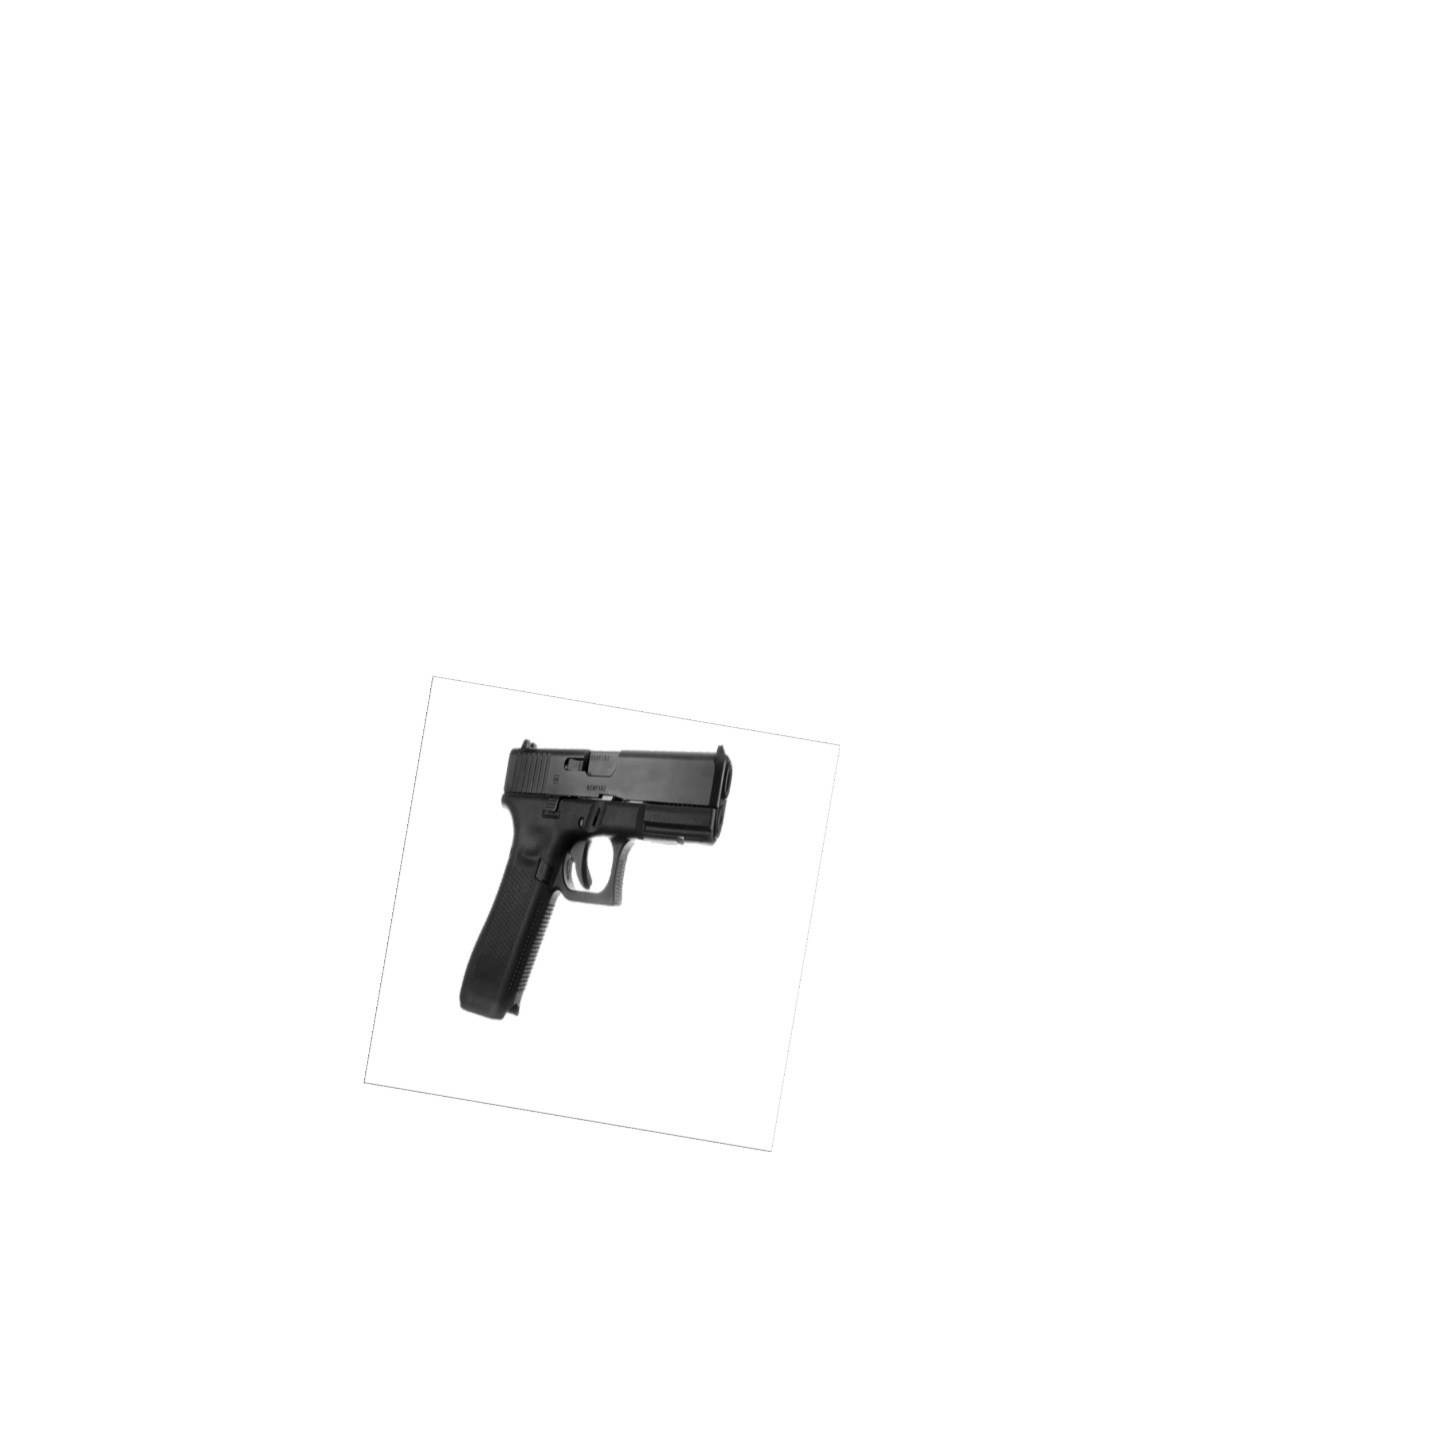gun: (452, 727, 739, 1027)
